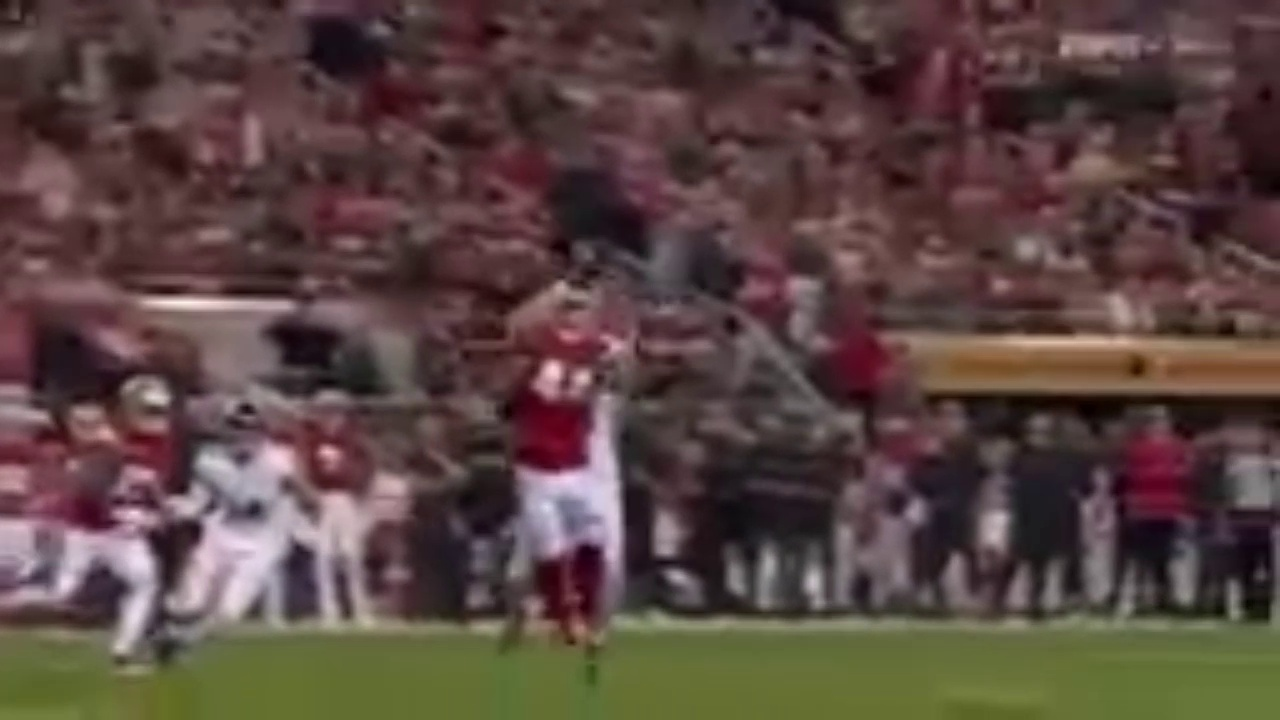interference: (509, 267, 636, 479)
